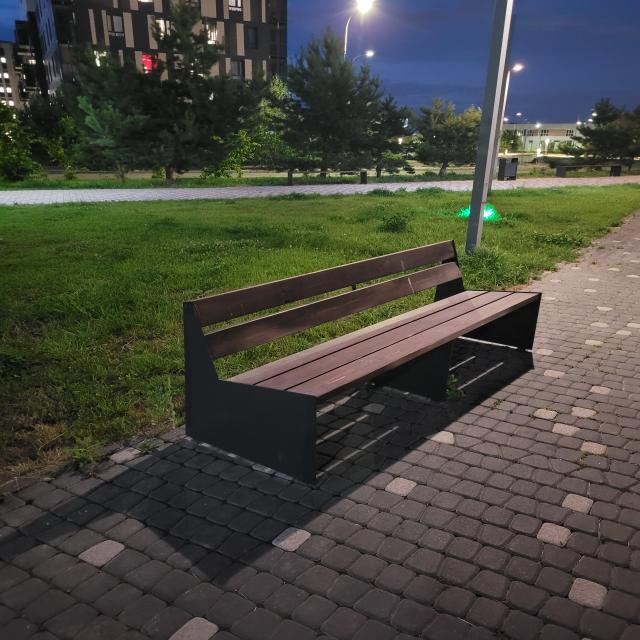Bench: (183, 240, 540, 483)
